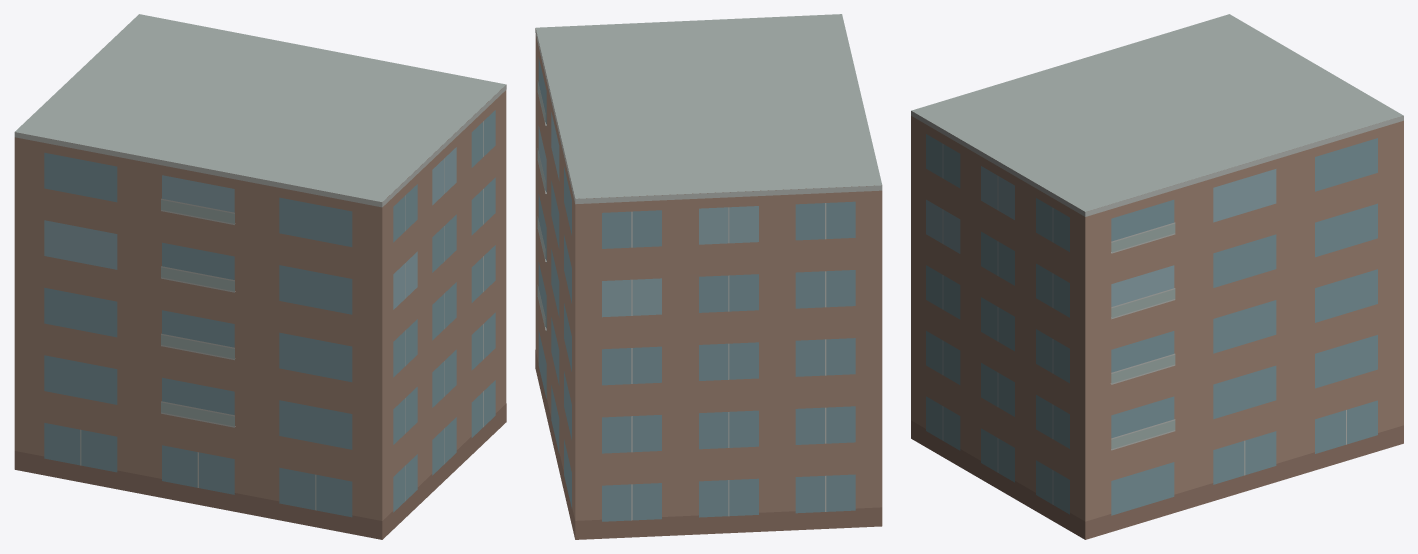
File: survey-upis-33034696.glb
3 views of the same model, side by side, from view 1: azimuth 30°, elevation 25°; view 2: azimuth 150°, elevation 25°; view 3: azimuth 270°, elevation 25° (orthographic). The views are drawn at different scales.
Parts seen in each view (by area): view 1: survey-upis-33034696.tmp; view 2: survey-upis-33034696.tmp; view 3: survey-upis-33034696.tmp.
Boxes of the visible parts, bbox=[...] form: survey-upis-33034696.tmp: bbox=[14, 14, 506, 539]; survey-upis-33034696.tmp: bbox=[535, 14, 882, 539]; survey-upis-33034696.tmp: bbox=[911, 14, 1403, 539].
Bounding box in the file's own units: 20.46 × 15.8 × 21.52.
